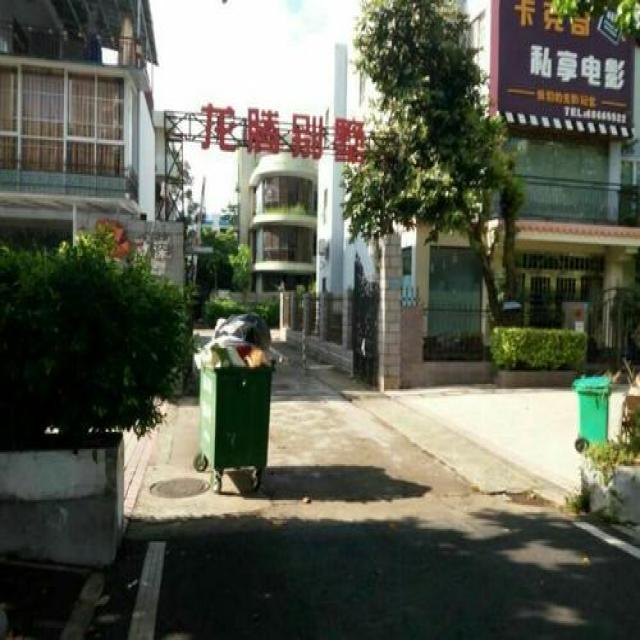garbage_bin: (574, 374, 610, 444)
overflow: (192, 312, 274, 466)
